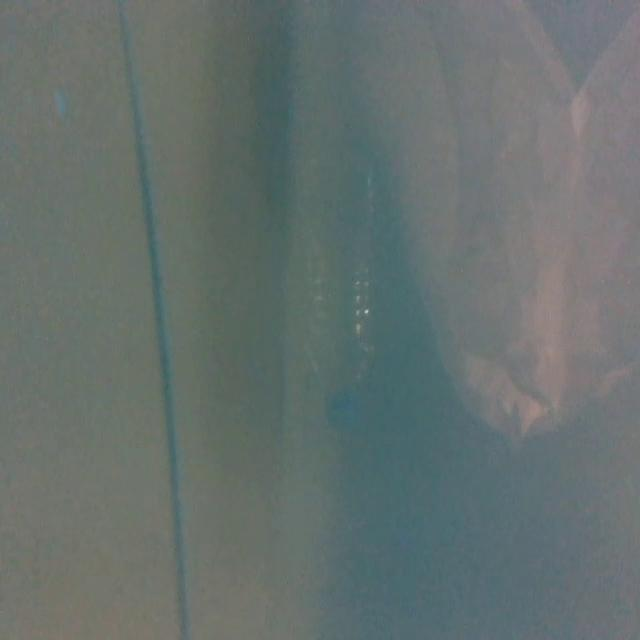plastic bags: (362, 0, 640, 429)
plastic bottle: (283, 116, 400, 465)
